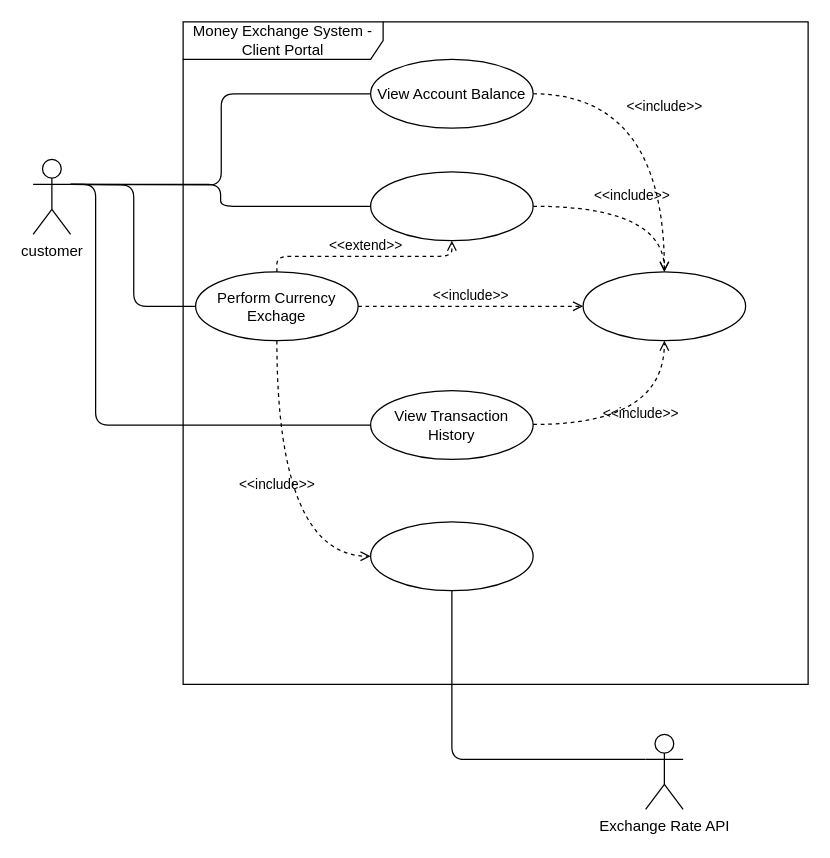
This 830x858 diagram has some shape labels left out. Each missing label, with the centre of its shape:
Fetch Exchange Rate: the point at 451,556
Initiate Transaction: the point at 451,206
Log in: the point at 664,306
